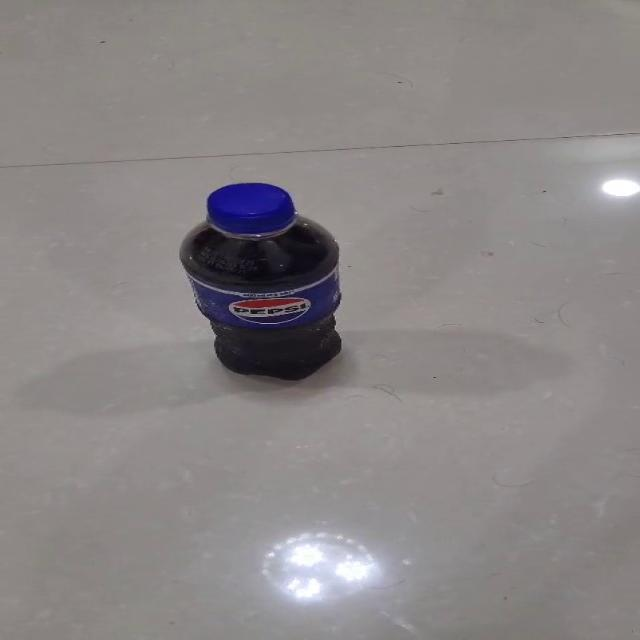plastic: (176, 182, 342, 380)
